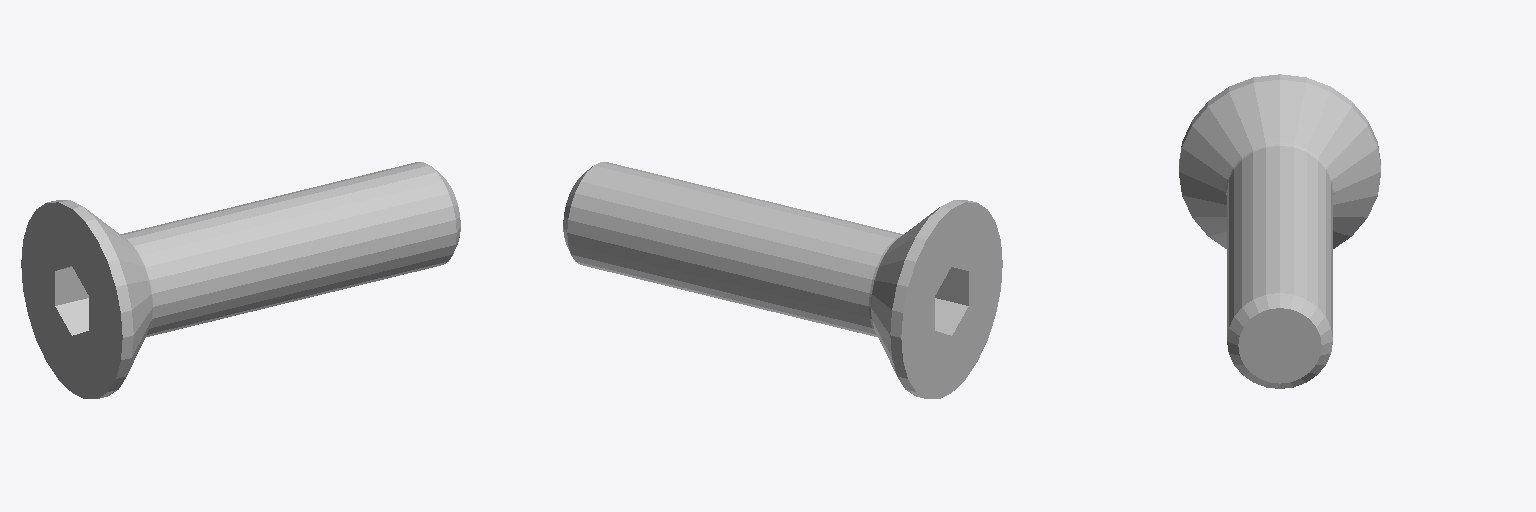
File: 4DIN7991M0416M(high).obj
3 renders of one model, left to right at view 1: azimuth 30°, elevation 25°; view 2: azimuth 150°, elevation 25°; view 3: azimuth 270°, elevation 25°, orthographic.
Bounding box in the file's own units: 16 × 7.64 × 7.64.